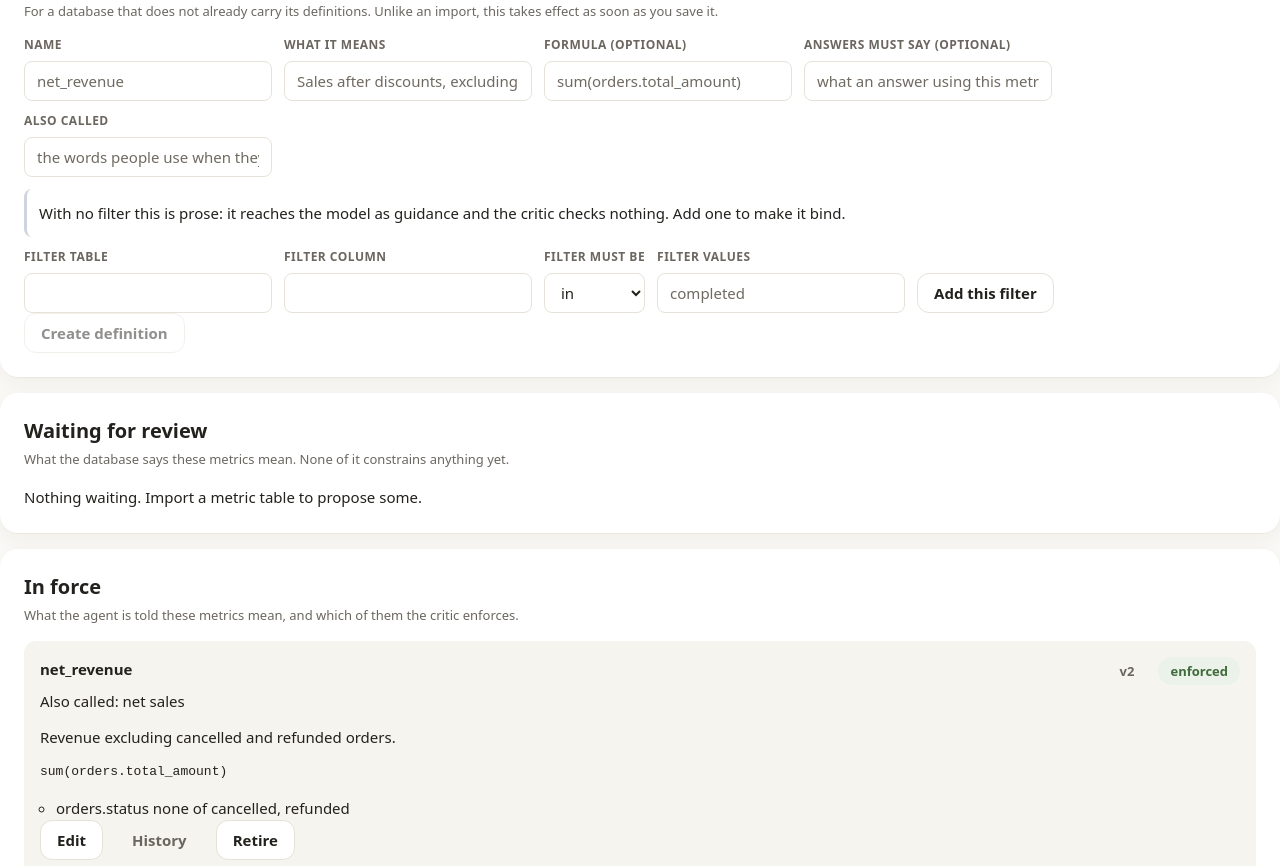
<Definitions /> › says what saving will do before it is saved
(page scrolled)
Click the button "Edit" at (72,840), box top-left (40, 820), bottom-right (103, 860)
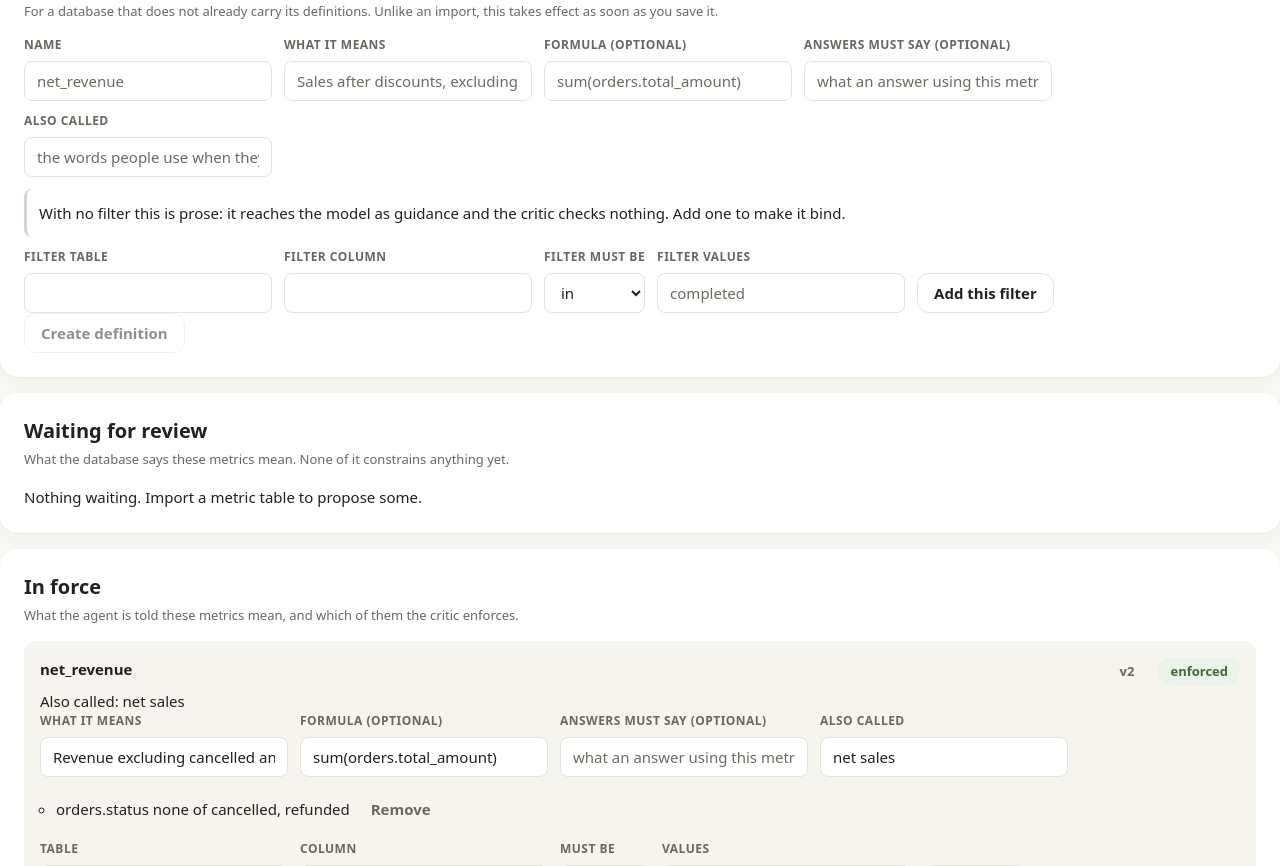
Click the button "Remove" at (401,809), box top-left (354, 789), bottom-right (448, 829)
(page scrolled)
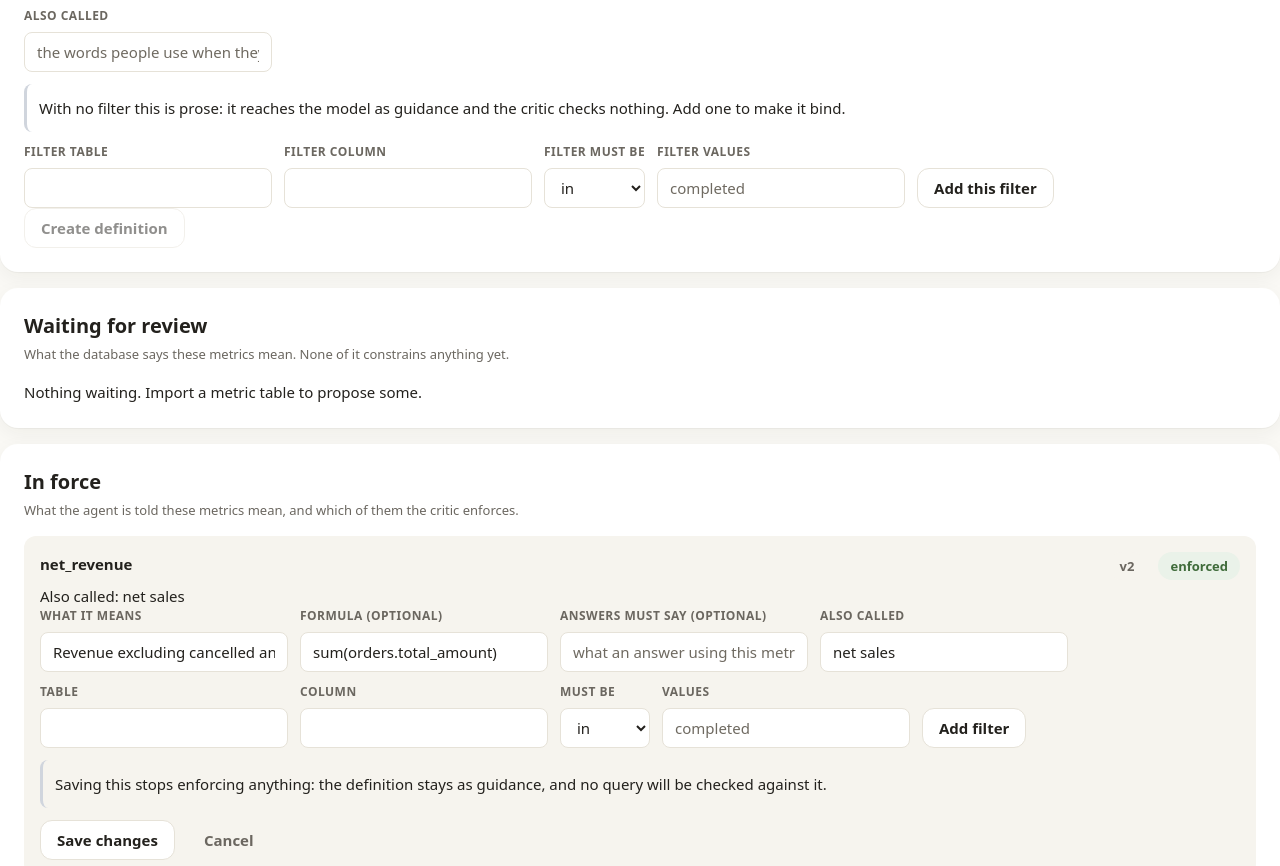
Now the text "stops enforcing anything" is shown, box top-left (55, 774), bottom-right (827, 794)
